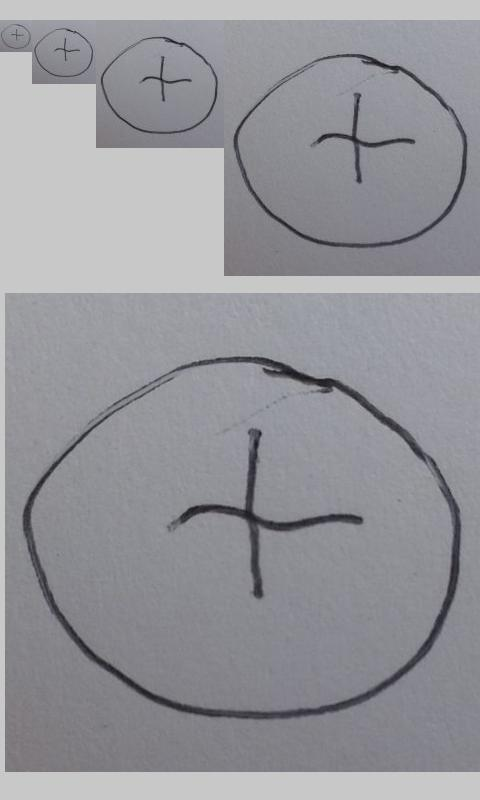button: (18, 353, 463, 724), (232, 53, 469, 249), (101, 36, 220, 135), (34, 28, 93, 78), (1, 24, 31, 49)
